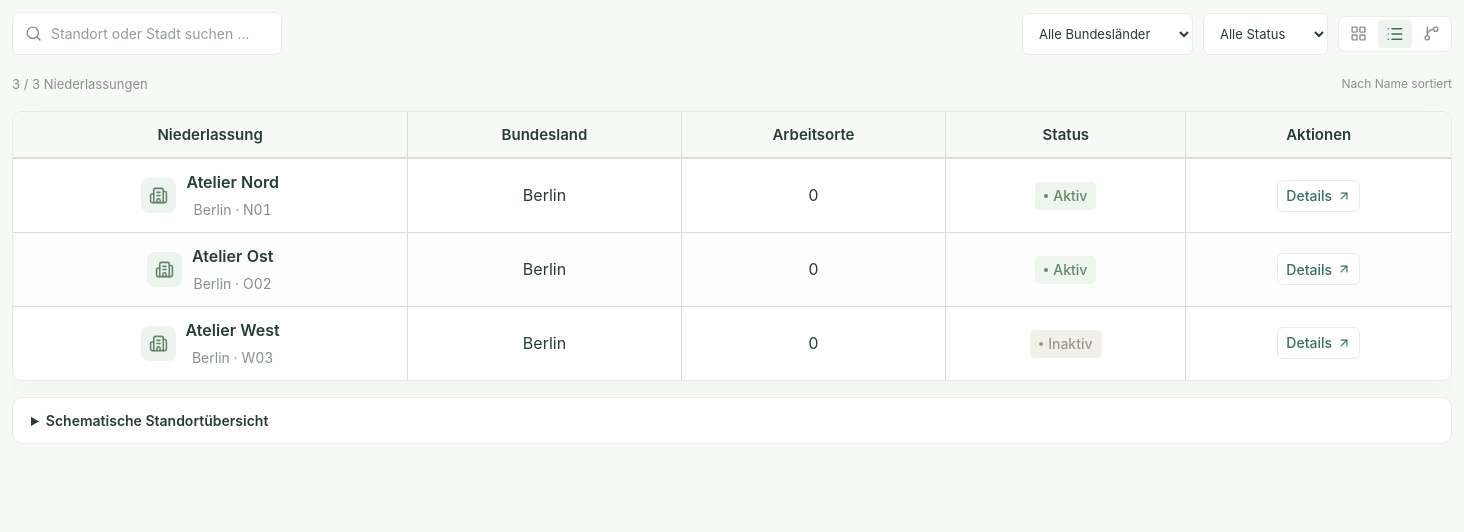
Test: admin overview › opens the branch directory as a table and keeps search active when switching views
Type "N01" into the field named "Niederlassungen suchen" at [160, 34], box [51, 23, 269, 44]
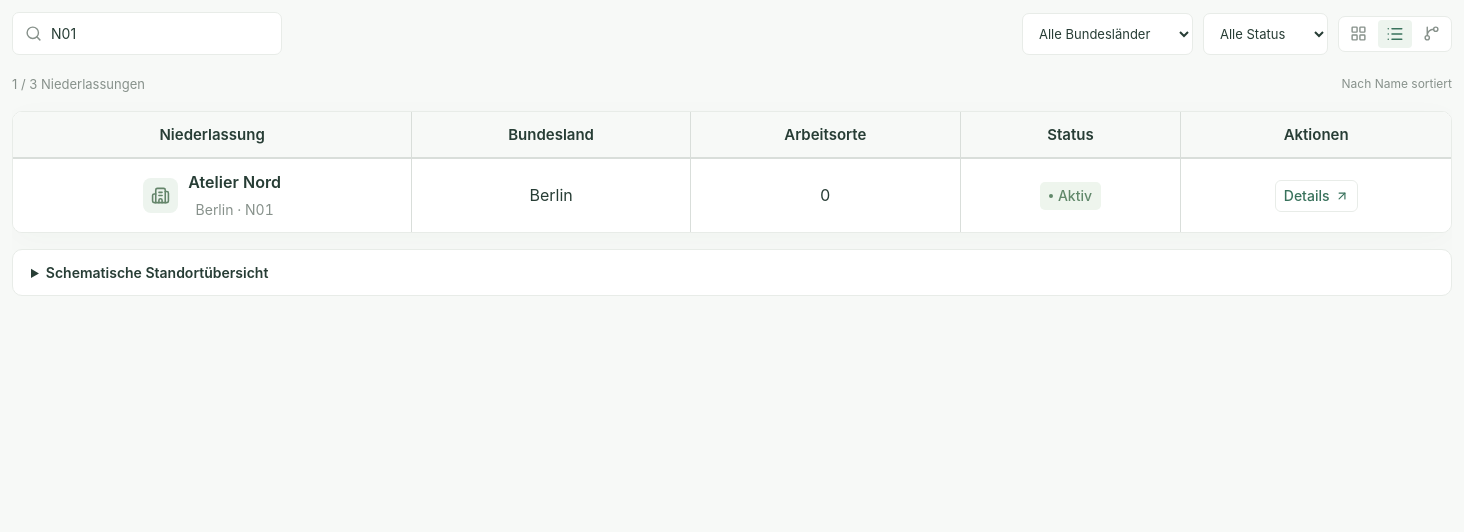
Now the number of rows is 2, box [13, 112, 1451, 158]; [13, 158, 1451, 232]
Click the button named "Rasteransicht" at [1358, 34], box [1342, 20, 1375, 48]
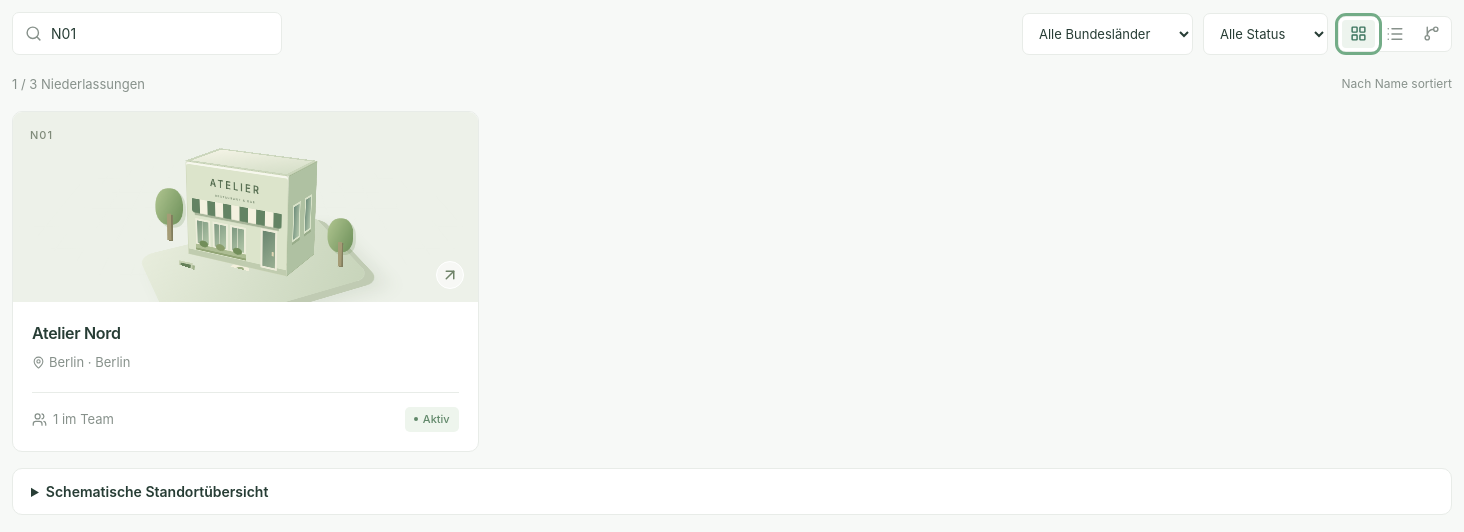
Expected: the heading "Atelier Nord" is shown, [32, 320, 121, 344]
Now the table is gone
